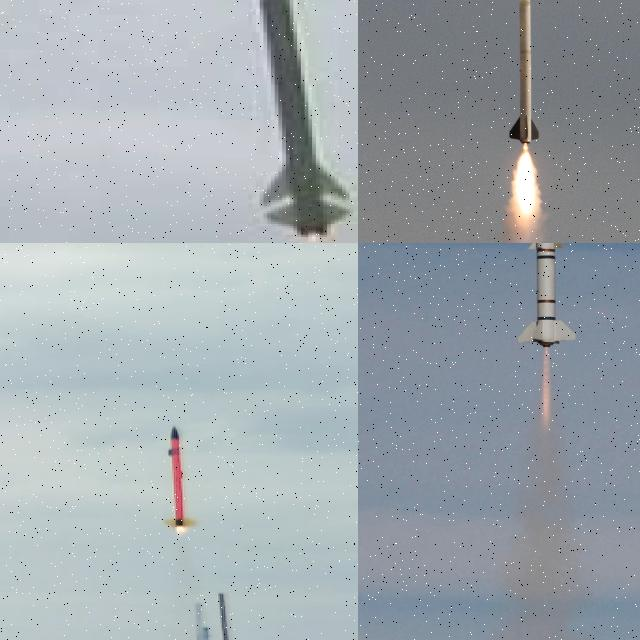Rocket: (218, 0, 358, 239), (515, 243, 579, 349), (507, 0, 541, 145), (163, 426, 198, 528)
